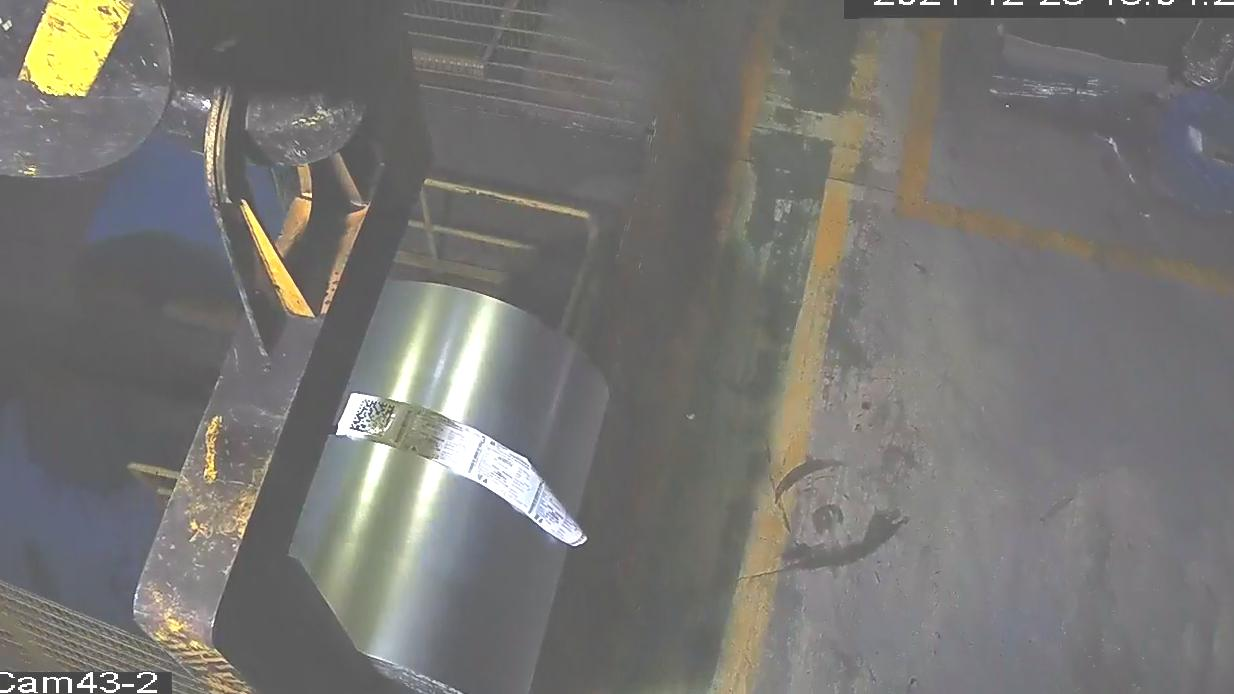data matrix: (348, 396, 399, 441)
